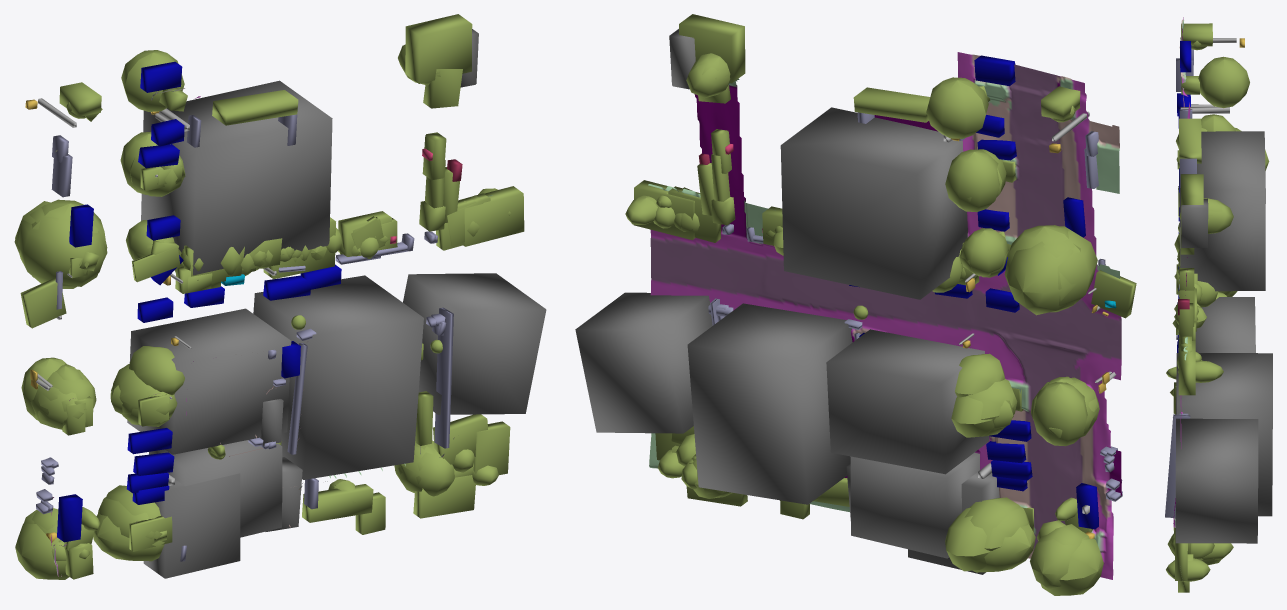
The model's file is medium_240.glb.
The picture shows the model from 3 angles, left to right: view 1: azimuth 30°, elevation 25°; view 2: azimuth 150°, elevation 25°; view 3: azimuth 270°, elevation 25°; orthographic projection. The views are drawn at different scales.
Bounding box in the file's own units: 69.61 × 66.18 × 15.34.
